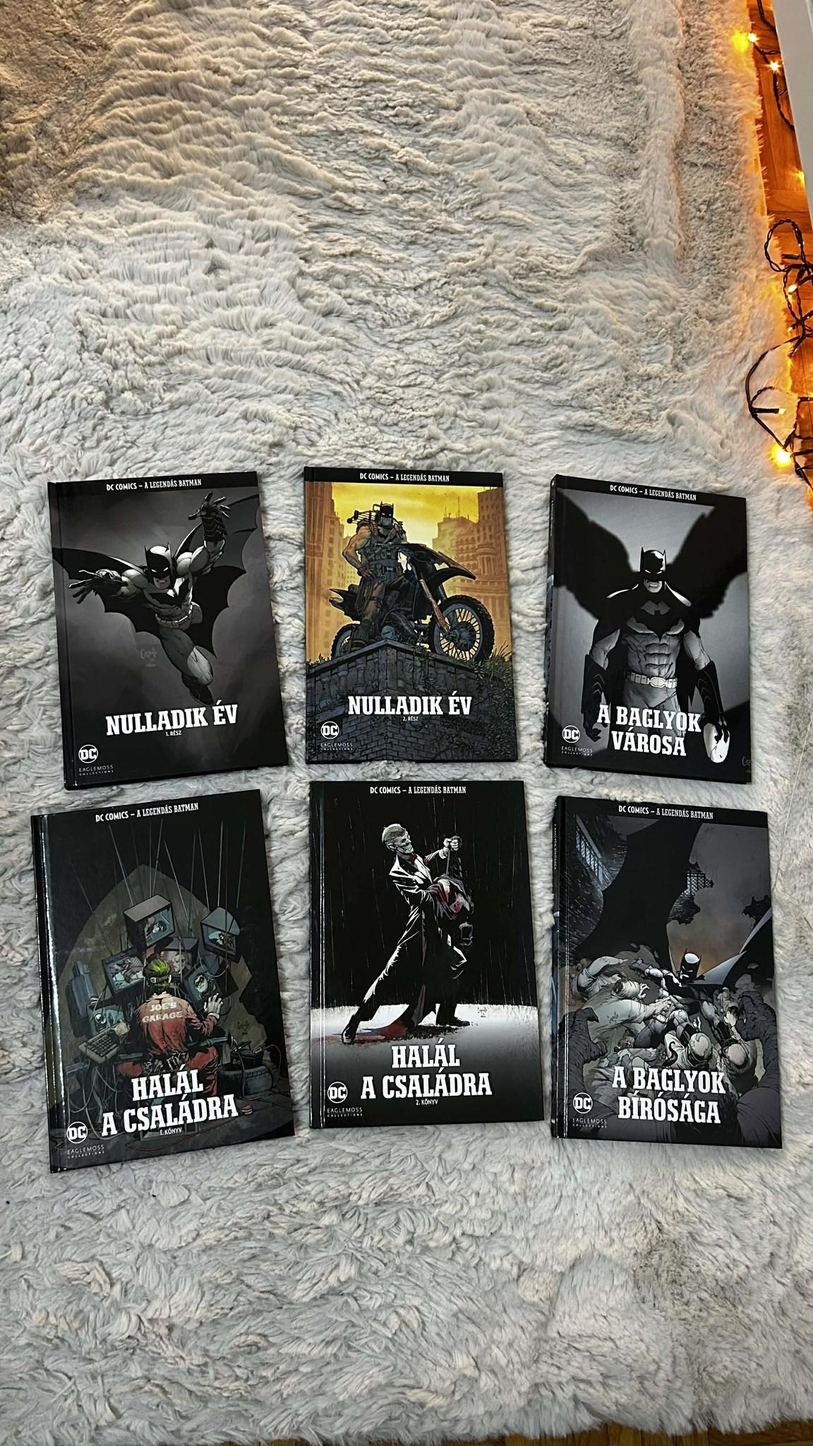comic: (21, 790, 294, 1171), (306, 780, 543, 1128), (552, 798, 782, 1147), (49, 471, 287, 788), (305, 466, 516, 763), (546, 477, 750, 782)
